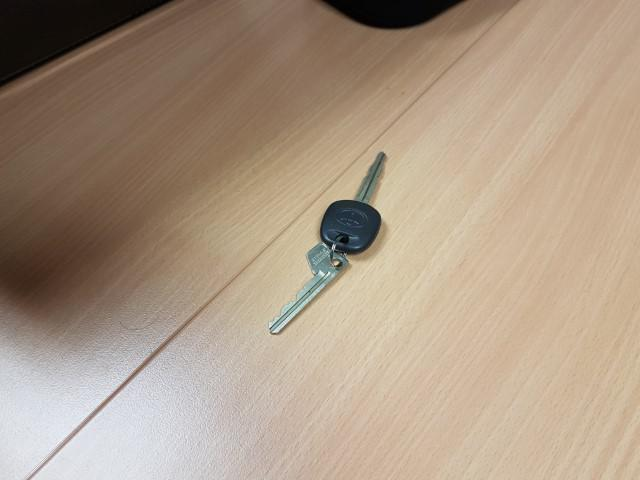key: (320, 150, 386, 253)
